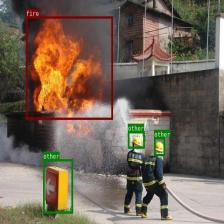fire: (26, 16, 113, 119)
